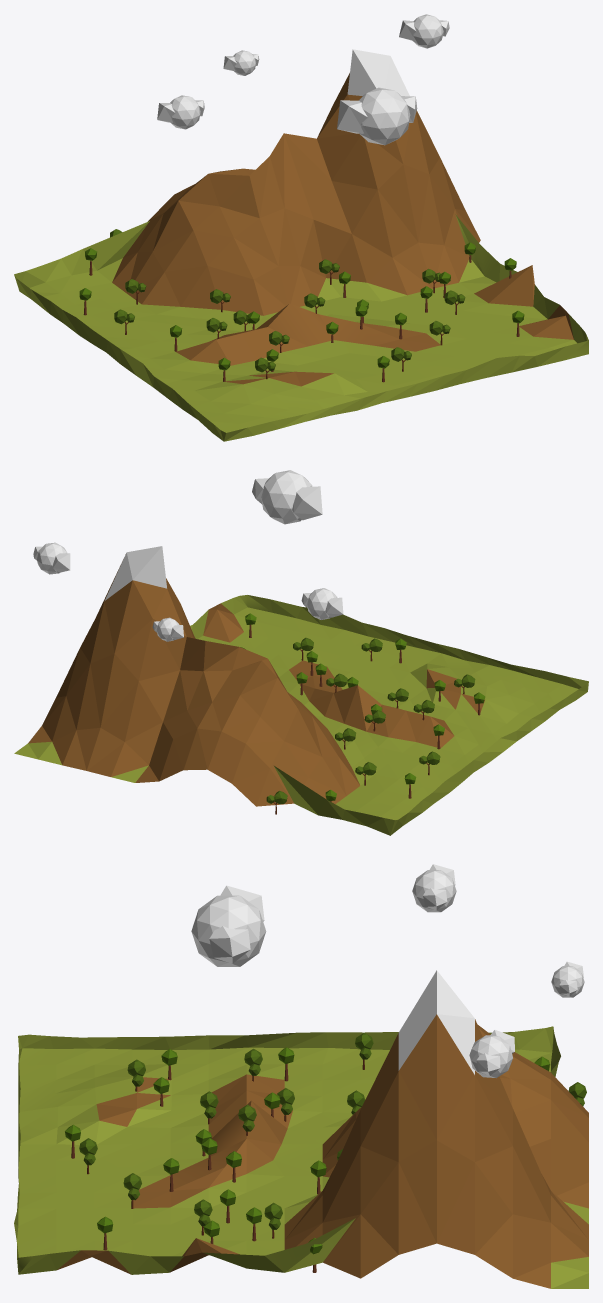
The model's file is tereno2.glb.
The picture shows the model from 3 angles, top to bottom: view 1: azimuth 30°, elevation 25°; view 2: azimuth 150°, elevation 25°; view 3: azimuth 270°, elevation 25°; orthographic projection. The views are drawn at different scales.
Visible parts, largest first — view 1: Terreno-col, Icosphere.001-col, Icosphere.002-col, Icosphere.002-col.001, Icosphere.000-col; view 2: Terreno-col, Icosphere.001-col, Icosphere.002-col.001, Icosphere.002-col, Icosphere.000-col; view 3: Terreno-col, Icosphere.001-col, Icosphere.002-col, Icosphere.002-col.001, Icosphere.000-col.
Part boxes in pixels (left/top/right/bottom): Terreno-col: left=14, top=49, right=588, bottom=441; Icosphere.001-col: left=337, top=87, right=417, bottom=145; Icosphere.002-col: left=399, top=14, right=449, bottom=48; Icosphere.002-col.001: left=157, top=95, right=204, bottom=129; Icosphere.000-col: left=223, top=50, right=259, bottom=75; Terreno-col: left=14, top=546, right=588, bottom=835; Icosphere.001-col: left=252, top=470, right=322, bottom=524; Icosphere.002-col.001: left=301, top=588, right=343, bottom=619; Icosphere.002-col: left=33, top=542, right=70, bottom=574; Icosphere.000-col: left=152, top=617, right=183, bottom=641; Terreno-col: left=14, top=970, right=588, bottom=1288; Icosphere.001-col: left=191, top=885, right=266, bottom=966; Icosphere.002-col: left=469, top=1030, right=514, bottom=1077; Icosphere.002-col.001: left=412, top=864, right=456, bottom=912; Icosphere.000-col: left=551, top=961, right=584, bottom=997.
Size of the model in its own units: 16.24 by 8.96 by 15.4.
